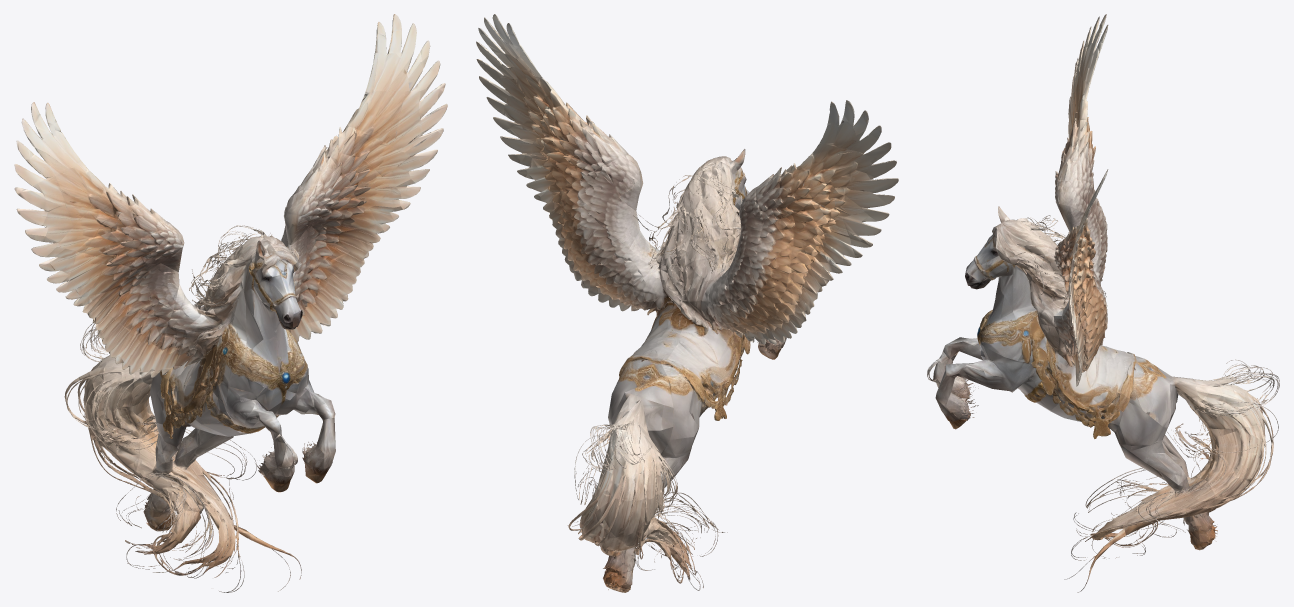
Rendered from pegasus__rearing-white.glb.
3 views of the same model, side by side, from view 1: azimuth 30°, elevation 25°; view 2: azimuth 150°, elevation 25°; view 3: azimuth 270°, elevation 25° (orthographic). The views are drawn at different scales.
Size of the model in its own units: 1.62 by 1.9 by 1.29.
Materials: 1 (1 with a texture image).
